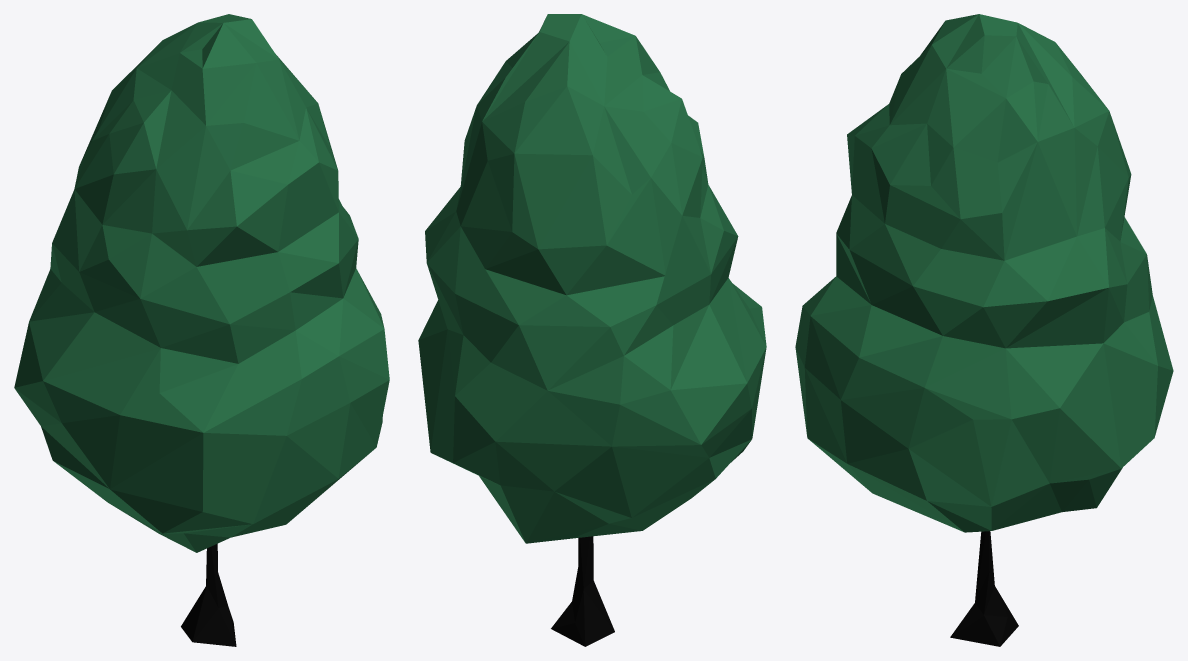
File: tree2.fbx
The picture shows the model from 3 angles, left to right: view 1: azimuth 30°, elevation 25°; view 2: azimuth 150°, elevation 25°; view 3: azimuth 270°, elevation 25°; orthographic projection.
Visible parts, largest first — view 1: Sphere; view 2: Sphere; view 3: Sphere.
Part boxes in pixels (x1,y1,x2,y2): Sphere: (14, 14, 389, 646); Sphere: (418, 14, 766, 646); Sphere: (795, 14, 1173, 646).
Size of the model in its own units: 147 by 276 by 151.
